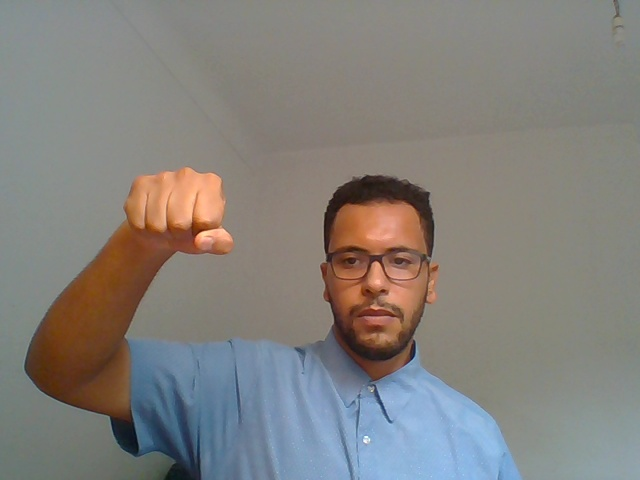yes: (94, 143, 233, 339)
